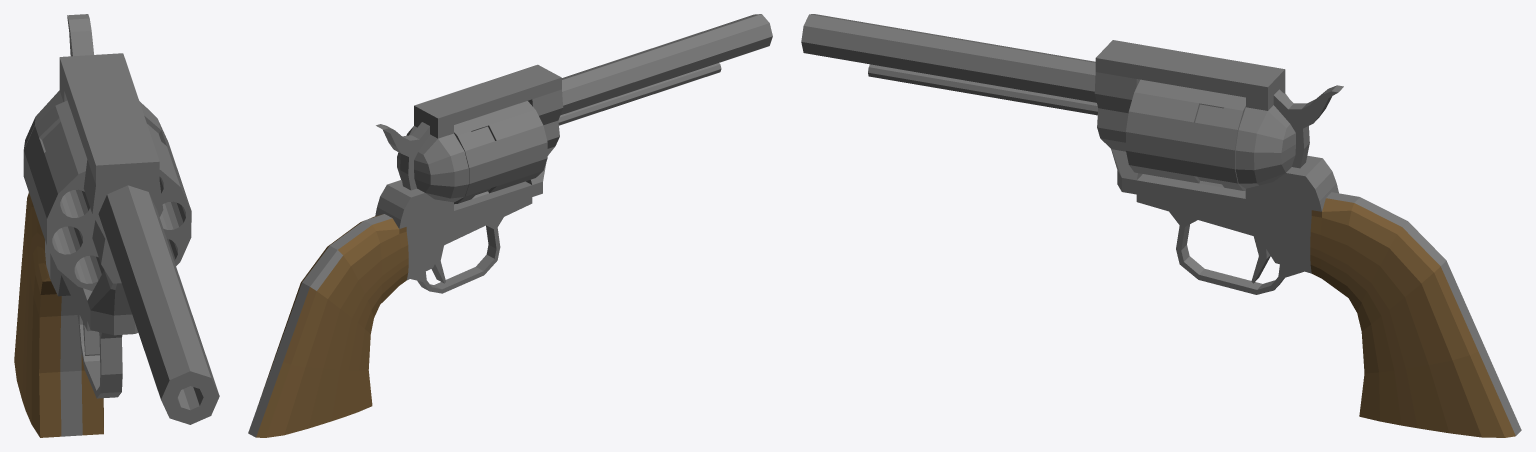
The model's file is Revolver.glb.
The picture shows the model from 3 angles, left to right: view 1: azimuth 30°, elevation 25°; view 2: azimuth 150°, elevation 25°; view 3: azimuth 270°, elevation 25°; orthographic projection. The views are drawn at different scales.
Visible parts, largest first — view 1: body, barrel, rotator; view 2: body, barrel, rotator; view 3: body, barrel, rotator.
Part boxes in pixels (x1,y1,x2,y2): body: [14, 14, 167, 437]; barrel: [98, 185, 219, 424]; rotator: [23, 100, 191, 291]; body: [248, 64, 563, 437]; barrel: [558, 14, 772, 125]; rotator: [454, 101, 547, 204]; body: [1094, 40, 1521, 437]; barrel: [801, 14, 1097, 115]; rotator: [1126, 79, 1245, 190].
Size of the model in its own units: 4.12 by 4.51 by 9.38.
